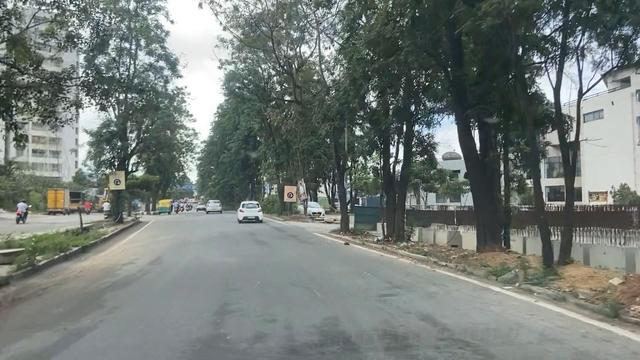LMV: (238, 201, 264, 221), (208, 197, 222, 214), (157, 200, 171, 214)
RoadDamages: (53, 305, 134, 334), (285, 332, 353, 360), (427, 325, 482, 357), (17, 275, 87, 296), (233, 321, 275, 355), (371, 320, 406, 355), (199, 313, 228, 353), (117, 260, 158, 282), (283, 233, 316, 249), (376, 291, 411, 306), (251, 228, 267, 246)
